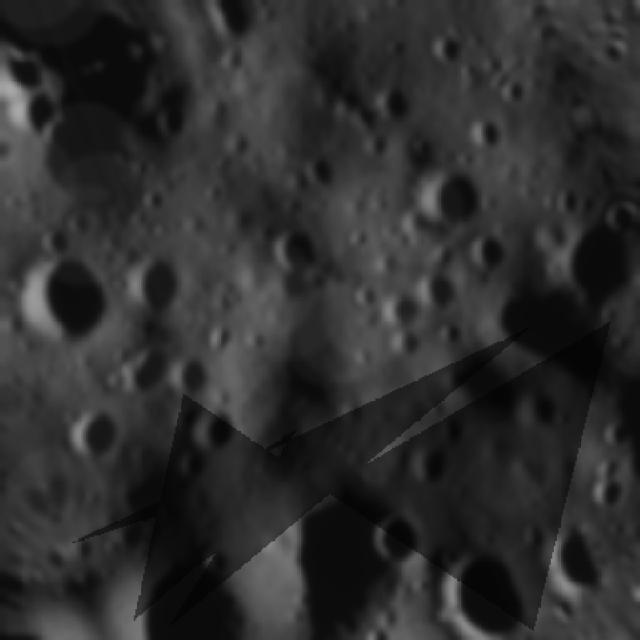crater: (237, 447, 454, 640), (467, 258, 636, 427), (88, 517, 288, 640), (0, 239, 126, 363), (538, 196, 640, 321), (417, 531, 537, 618), (405, 152, 498, 242), (249, 209, 333, 294), (114, 246, 194, 329), (52, 396, 133, 476), (362, 498, 436, 580), (108, 331, 183, 407), (0, 81, 74, 154), (178, 392, 250, 462), (506, 379, 572, 443), (157, 351, 225, 411), (201, 1, 270, 59), (141, 89, 205, 151), (532, 518, 599, 574), (384, 196, 444, 256), (418, 20, 477, 80), (457, 106, 515, 162), (363, 80, 422, 135), (401, 438, 457, 494), (535, 178, 593, 232), (500, 448, 560, 500), (485, 68, 540, 121), (584, 472, 640, 521), (374, 283, 426, 335), (380, 317, 432, 368), (296, 145, 347, 197), (52, 198, 102, 250), (587, 191, 630, 244), (164, 441, 210, 487), (342, 275, 389, 317), (31, 220, 74, 265), (601, 416, 640, 457), (431, 312, 471, 350), (0, 124, 20, 178), (618, 211, 640, 258), (355, 618, 400, 640)
